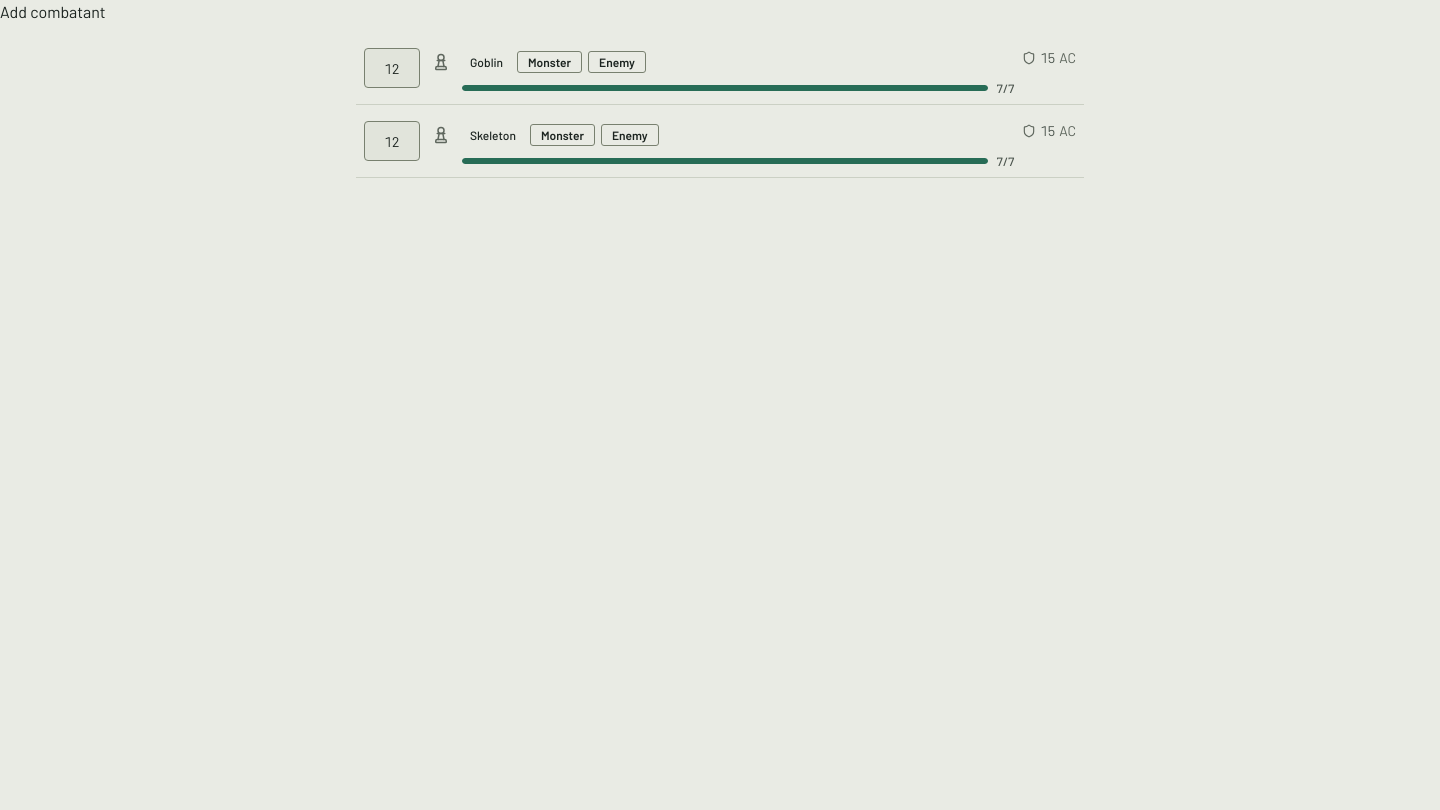
FocusLayout edit dialog › Escape cancels a name edit, keeps the detail dialog open and saves nothing
This screenshot has width=1440, height=810.
Step 1. Click the button named "Goblin details" → (486, 62), box left=462, top=48, right=511, bottom=76
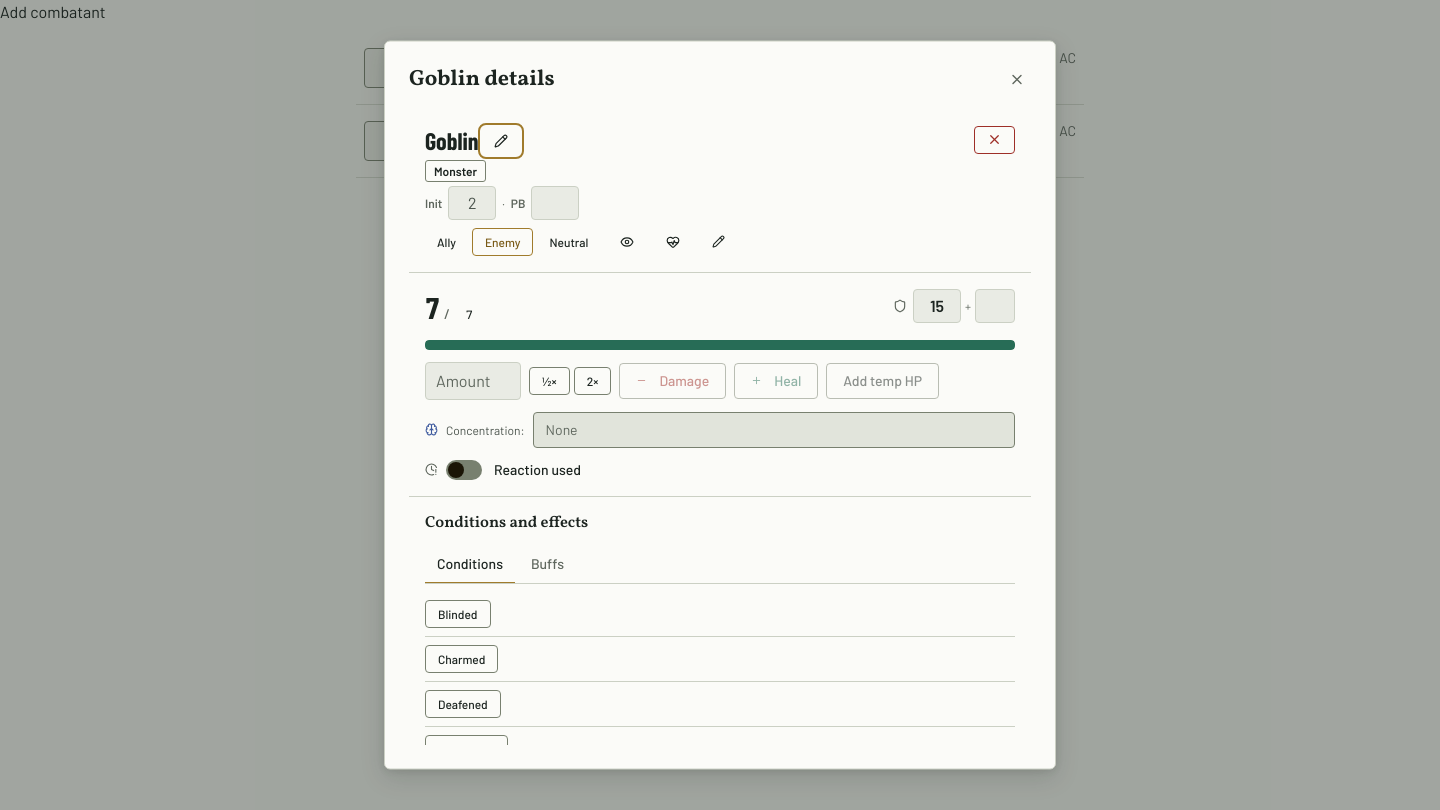
Step 2. Click the button named "Rename Goblin" → (501, 140), box left=482, top=126, right=520, bottom=154
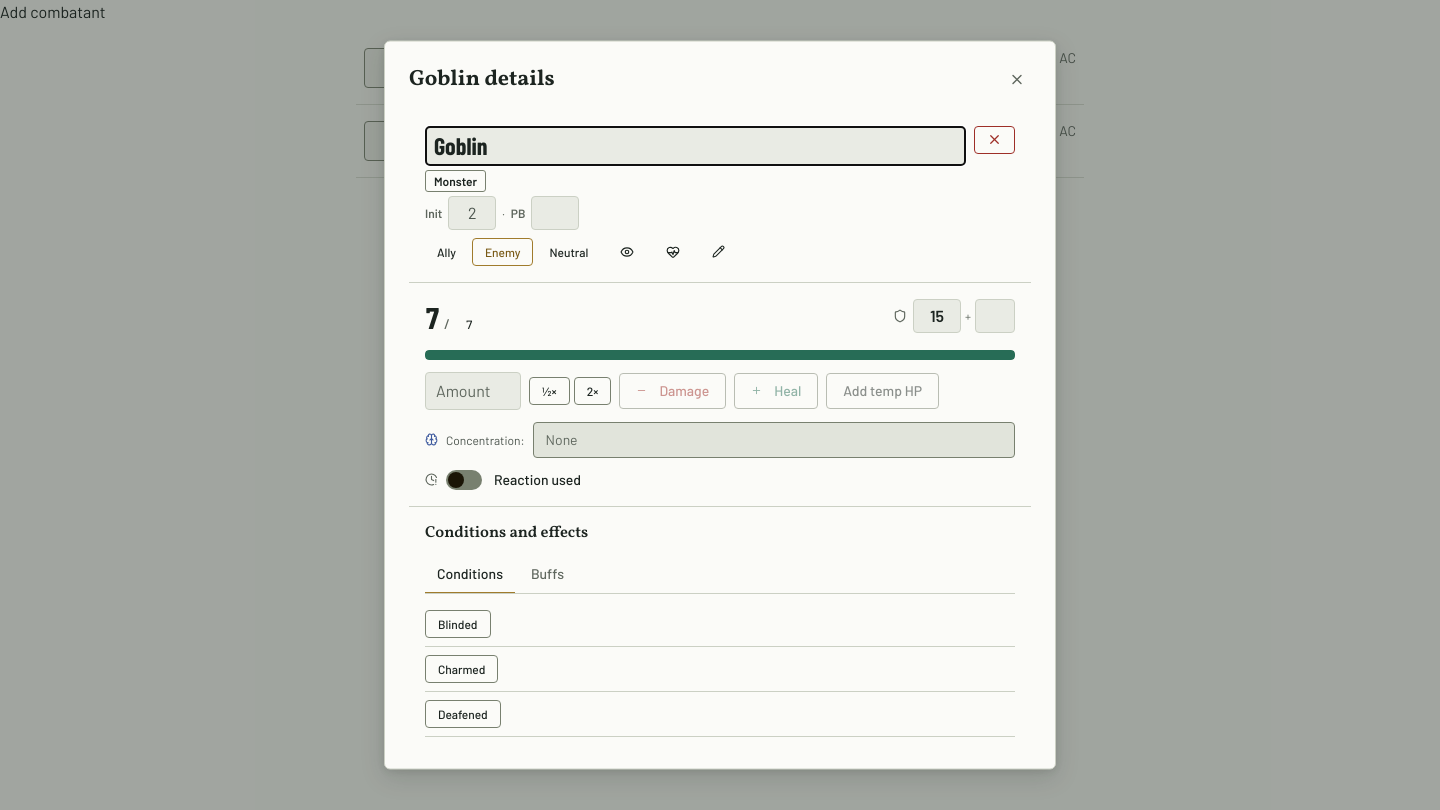
Step 3. Replace the text in the field named "Combatant name" with "Changed" → (696, 145), box left=425, top=125, right=966, bottom=165
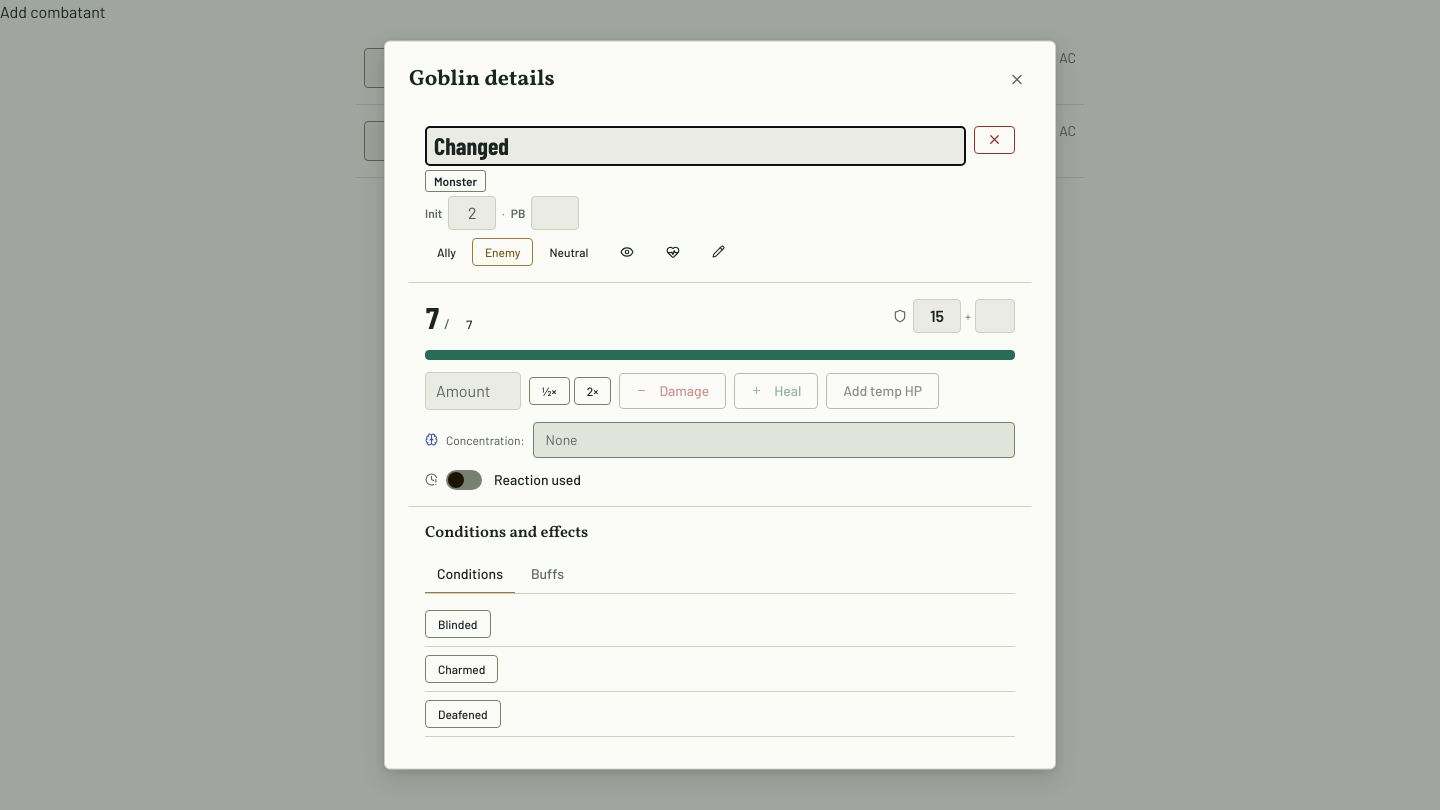
Step 4. Press Escape
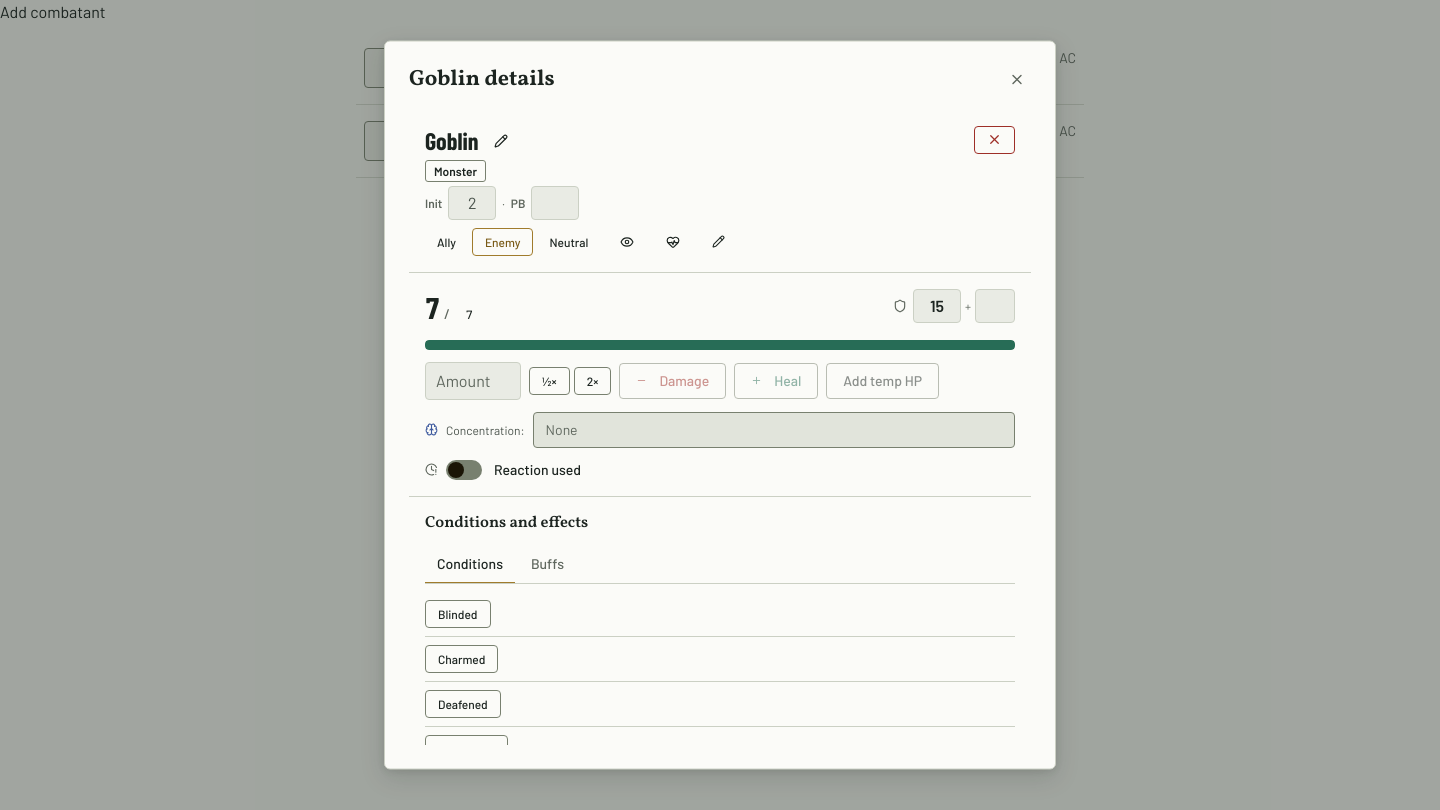
Now the dialog "Goblin details" is shown, box left=384, top=40, right=1056, bottom=770
Now the text "Goblin" is shown, box left=425, top=125, right=478, bottom=155
